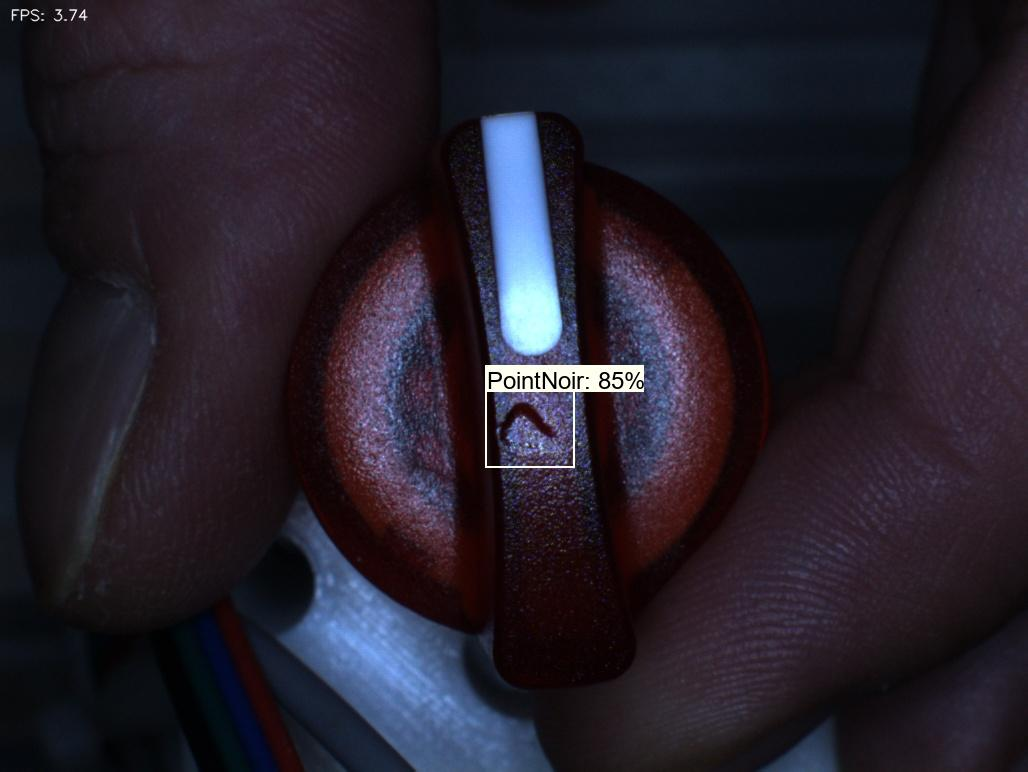Choc: (486, 391, 580, 486)
